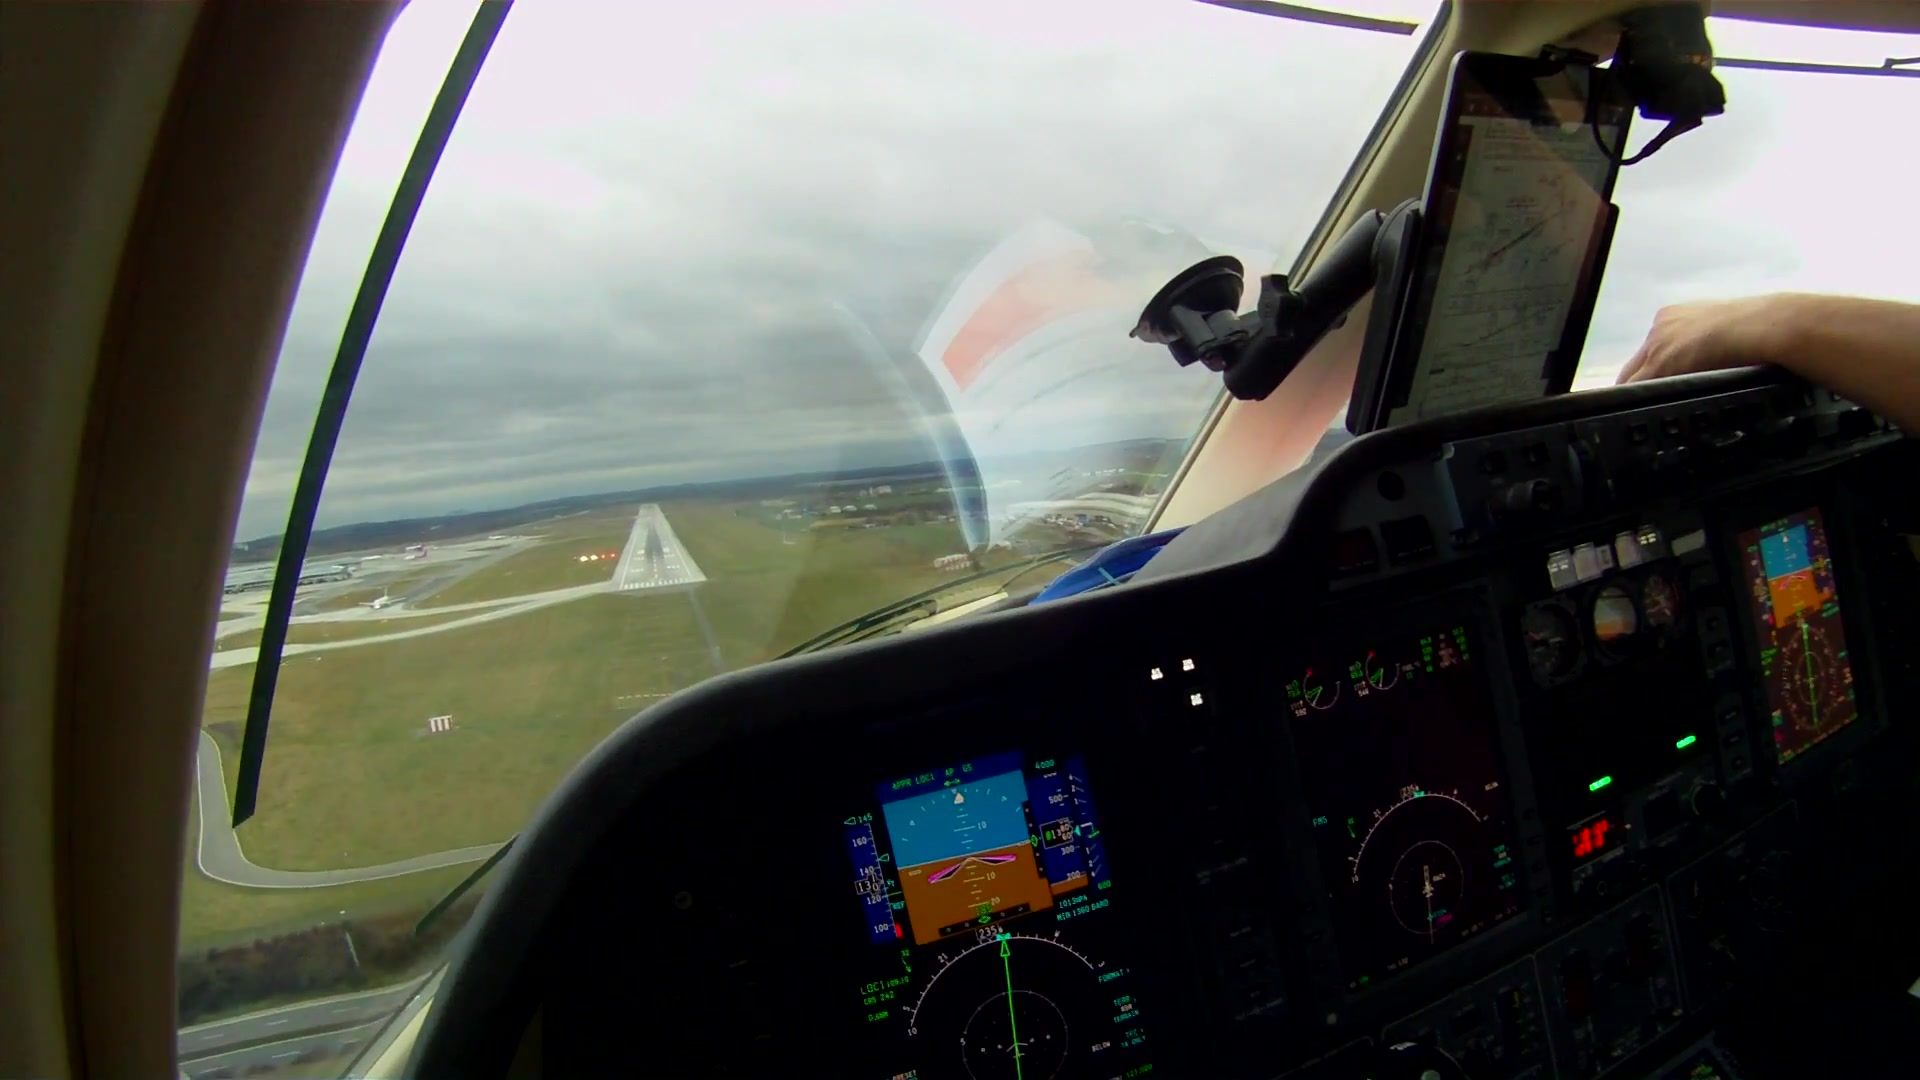entrance: (622, 578, 690, 589)
runway: (603, 506, 705, 593)
